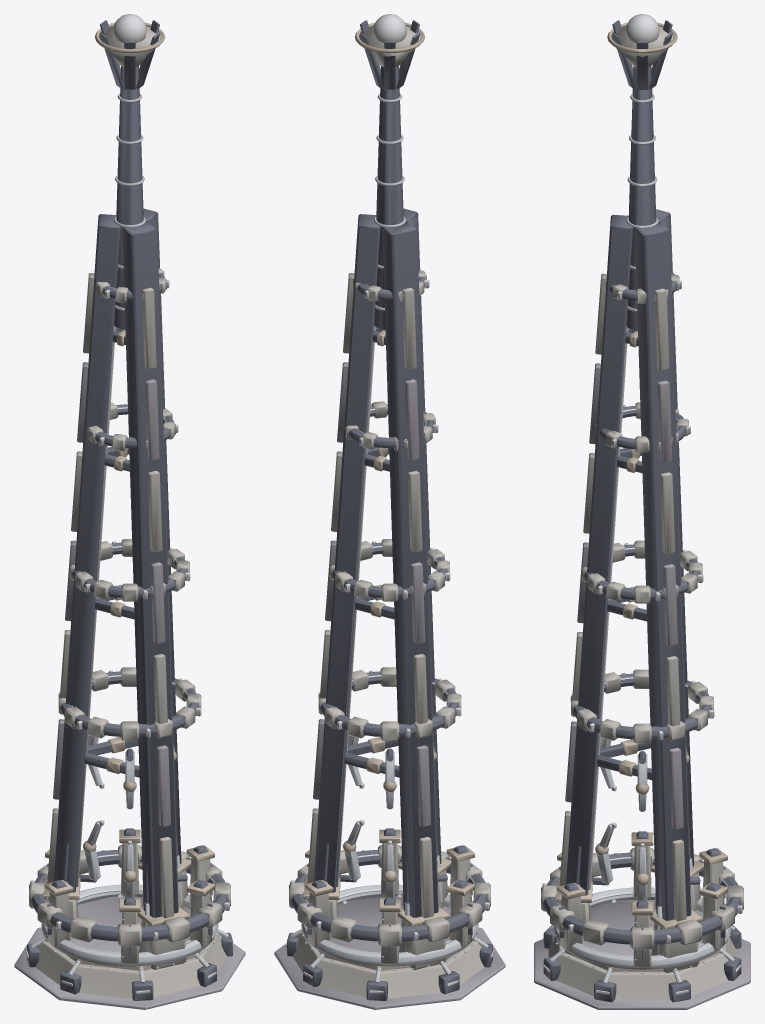
Rendered from uplink.glb.
The picture shows the model from 3 angles, left to right: view 1: azimuth 30°, elevation 25°; view 2: azimuth 150°, elevation 25°; view 3: azimuth 270°, elevation 25°; orthographic projection.
Parts seen in each view (by area): view 1: main, ring_0, ring_1, ring_2, ring_3, ring_4; view 2: main, ring_0, ring_1, ring_2, ring_3, ring_4; view 3: main, ring_0, ring_1, ring_2, ring_3, ring_4.
Part boxes in pixels (x1,y1,x2,y2): main: (14, 14, 245, 1009); ring_0: (29, 845, 230, 946); ring_1: (58, 667, 201, 740); ring_2: (70, 539, 190, 601); ring_3: (87, 402, 178, 451); ring_4: (95, 268, 169, 302); main: (274, 14, 505, 1009); ring_0: (289, 845, 490, 946); ring_1: (318, 667, 461, 740); ring_2: (330, 539, 450, 601); ring_3: (344, 401, 438, 451); ring_4: (353, 270, 429, 301); main: (534, 14, 750, 1009); ring_0: (541, 848, 743, 949); ring_1: (570, 669, 714, 743); ring_2: (582, 540, 703, 603); ring_3: (596, 402, 690, 452); ring_4: (605, 272, 681, 303).
Bounding box in the file's own units: 9.52 × 45.95 × 9.52.
